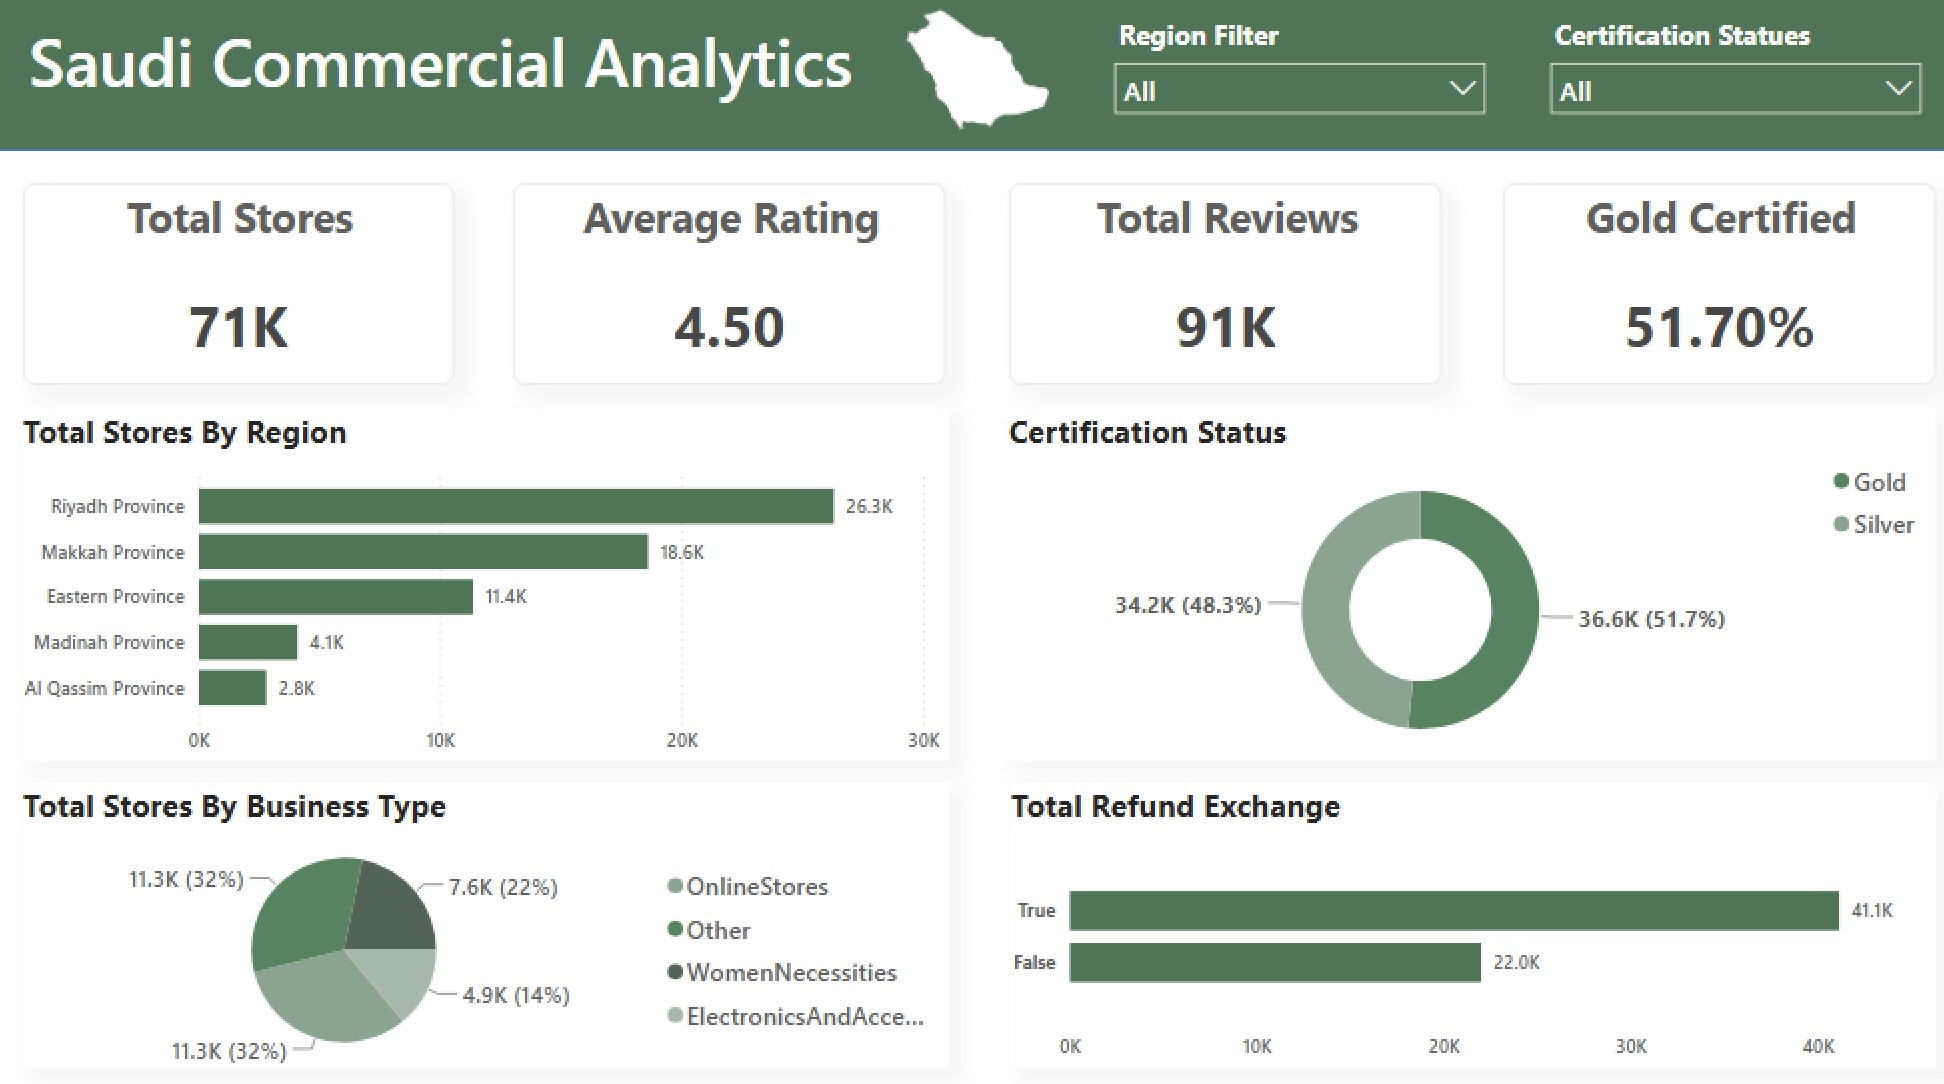

Layout of this report page (visuals, bound fields, positions):
{"tool":"powerbi","page":{"name":"Dashboard","canvas":[1280,720],"ordinal":0},"visuals":[{"type":"cardVisual","title":"Total Stores","fields":{"Data":["measures_table.Total_Stores"]},"box":[20.4,124.1,279.6,131.5],"z":0},{"type":"cardVisual","title":"Average Rating ","fields":{"Data":["measures_table.Avrage_Rating"]},"box":[338.9,124.1,281.5,131.5],"z":1000},{"type":"cardVisual","title":"Gold Certified","fields":{"Data":["measures_table.% Gold_certified"]},"box":[981.5,124.1,281.5,131.5],"z":2000},{"type":"cardVisual","title":"Total Reviews","fields":{"Data":["measures_table.Total_Reviews"]},"box":[661.1,124.1,281.5,131.5],"z":3000},{"type":"shape","box":[0,0,1279.6,103.7],"z":4000},{"type":"textbox","box":[20,11.4,557.1,80],"z":5000},{"type":"image","box":[524.1,0,231.5,101.9],"z":6000},{"type":"clusteredBarChart","title":"Total Stores By Region","fields":{"Y":["measures_table.Total_Stores"],"Category":["dim_table.region_name_eng"]},"box":[20.1,271,600.6,228.9],"z":7000},{"type":"donutChart","title":"Certification Status","fields":{"Y":["CountNonNull(dim_table.id)"],"Category":["dim_table.certification_status"]},"box":[661.1,271,602.5,228.9],"z":8000},{"type":"pieChart","title":"Total Stores By Business Type","fields":{"Category":["dim_table.business_sub_type_en"],"Y":["measures_table.Total_Stores"]},"box":[20.1,514.6,600.6,184.9],"z":9000},{"type":"clusteredBarChart","title":"Total Refund Exchange ","fields":{"Category":["dim_table.has_no_refund_exchange"],"Y":["CountNonNull(fact_table.business_id)"]},"box":[662.9,514.6,600.6,184.9],"z":10000},{"type":"slicer","fields":{"Values":["dim_table.region_name_eng"]},"box":[720,11.4,261.4,80],"z":11000},{"type":"slicer","fields":{"Values":["dim_table.certification_status"]},"box":[1002.9,11.4,261.4,80],"z":12000}]}

Visuals, with their boxes in screenshot pixels (x1, y1, x2, y2), scaled from the page's 1280x720 canvas onto the 1944x1084 screenshot:
"Total Stores" cardVisual: (left=31, top=187, right=456, bottom=385)
"Average Rating " cardVisual: (left=515, top=187, right=942, bottom=385)
"Gold Certified" cardVisual: (left=1491, top=187, right=1918, bottom=385)
"Total Reviews" cardVisual: (left=1004, top=187, right=1432, bottom=385)
shape: (left=0, top=0, right=1943, bottom=156)
textbox: (left=30, top=17, right=876, bottom=138)
image: (left=796, top=0, right=1148, bottom=153)
"Total Stores By Region" clusteredBarChart: (left=31, top=408, right=943, bottom=753)
"Certification Status" donutChart: (left=1004, top=408, right=1919, bottom=753)
"Total Stores By Business Type" pieChart: (left=31, top=775, right=943, bottom=1053)
"Total Refund Exchange " clusteredBarChart: (left=1007, top=775, right=1919, bottom=1053)
slicer - dim_table.region_name_eng: (left=1094, top=17, right=1491, bottom=138)
slicer - dim_table.certification_status: (left=1523, top=17, right=1920, bottom=138)
